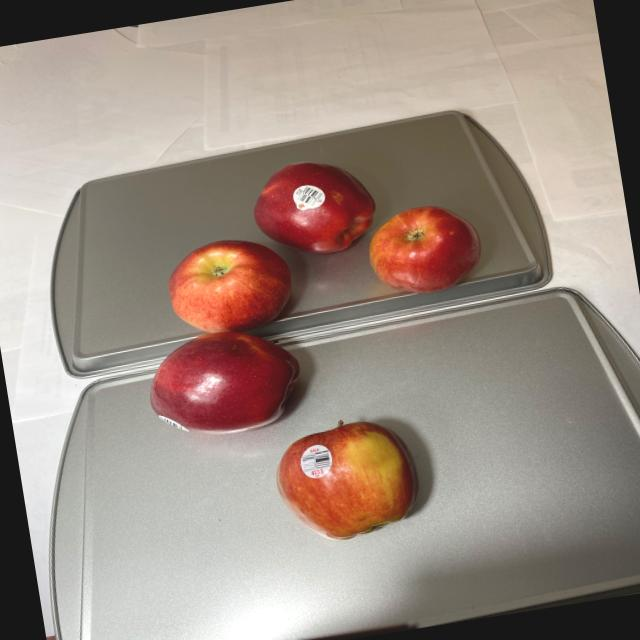apple: (112, 136, 505, 445), (269, 407, 435, 553)
